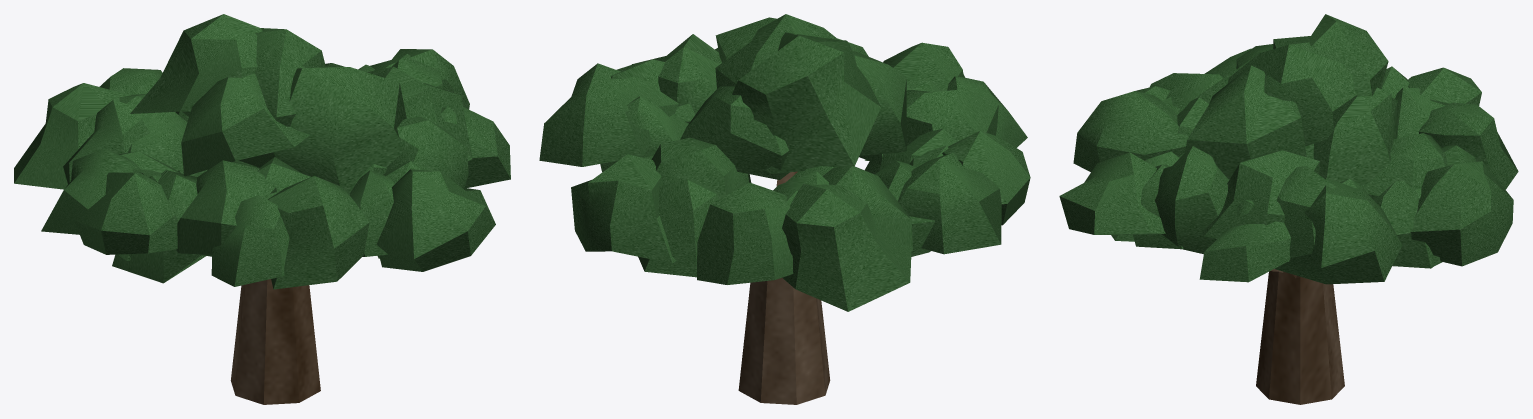
Rendered from ambient_tree_11.glb.
The picture shows the model from 3 angles, left to right: view 1: azimuth 30°, elevation 25°; view 2: azimuth 150°, elevation 25°; view 3: azimuth 270°, elevation 25°; orthographic projection. The views are drawn at different scales.
Visible parts, largest first — view 1: ambient_tree_11; view 2: ambient_tree_11; view 3: ambient_tree_11.
Boxes of the visible parts, bbox=[...] form: ambient_tree_11: bbox=[14, 14, 510, 404]; ambient_tree_11: bbox=[539, 14, 1030, 404]; ambient_tree_11: bbox=[1059, 14, 1518, 404].
Bounding box in the file's own units: 11.24 × 9.13 × 10.87.
Materials: 2 (2 with a texture image).
